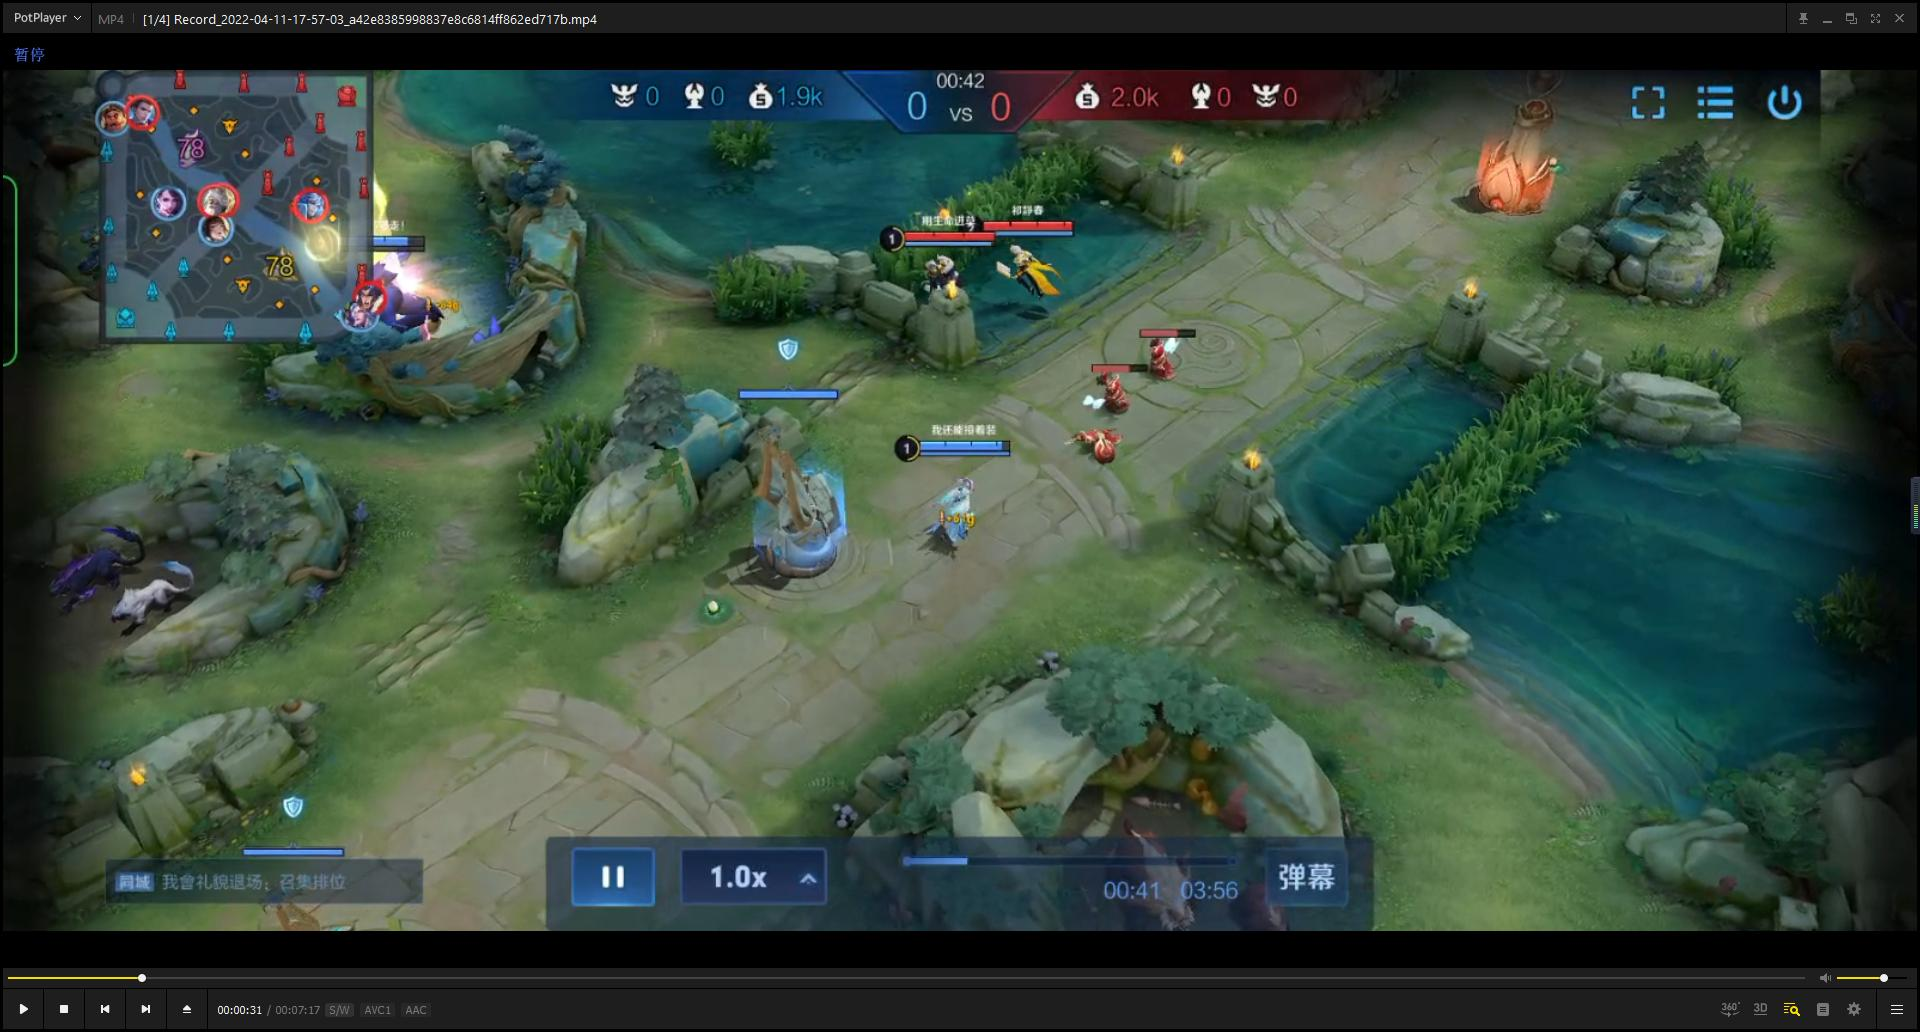Hero: (909, 468, 989, 555), (992, 236, 1067, 322), (906, 255, 981, 328)
Pig: (1095, 799, 1212, 932), (1210, 857, 1318, 932)
Solider: (1046, 414, 1141, 485), (1122, 308, 1197, 386), (1070, 357, 1144, 416)
Tower: (737, 366, 884, 632), (1451, 76, 1578, 243)
Wolf: (100, 552, 238, 660), (28, 499, 144, 620)
